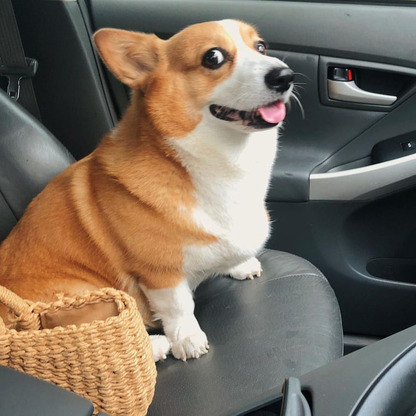Corgi: (65, 20, 309, 351)
